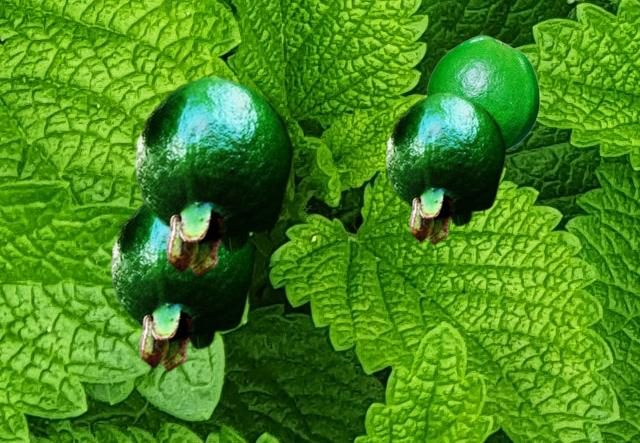guava: (134, 75, 294, 276), (110, 202, 256, 371), (385, 91, 506, 244), (426, 35, 539, 150)
